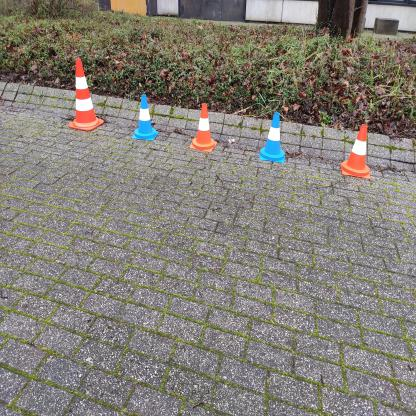Cones_big: (62, 56, 108, 138)
Cones_small_blue: (256, 110, 288, 167), (128, 92, 160, 146)
Cones_small_orange: (185, 98, 221, 161), (342, 113, 372, 182)
